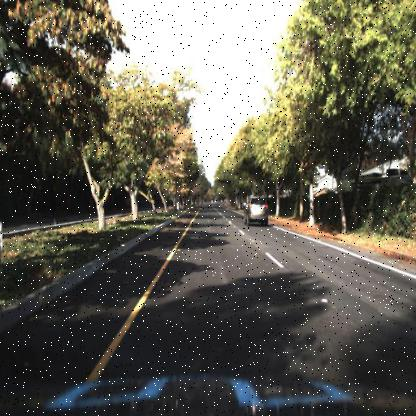car: (244, 194, 270, 226)
